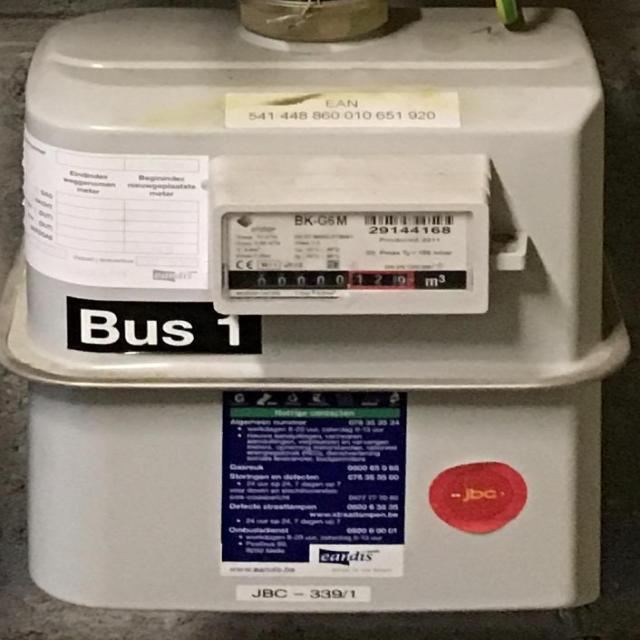gaz_meter: (222, 214, 471, 296)
indication: (248, 266, 417, 292)
